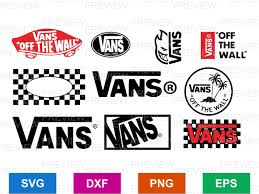vans: (13, 116, 92, 149), (104, 115, 159, 150), (93, 71, 163, 98), (187, 124, 240, 145), (96, 33, 125, 53), (169, 31, 183, 64), (32, 29, 57, 42), (203, 32, 215, 58), (189, 82, 211, 93)
